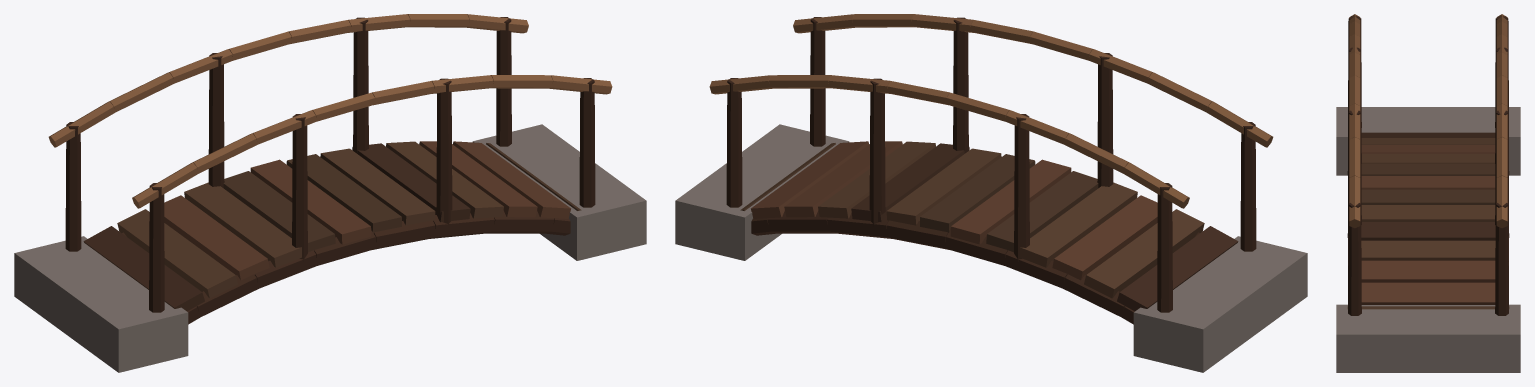
File: bridge-ETZK_L1i.glb
3 views of the same model, side by side, from view 1: azimuth 30°, elevation 25°; view 2: azimuth 150°, elevation 25°; view 3: azimuth 270°, elevation 25° (orthographic). The views are drawn at different scales.
Visible parts, largest first — view 1: bridge; view 2: bridge; view 3: bridge.
Boxes of the visible parts, x1=… form: bridge: x1=14, y1=14, x2=646, y2=372; bridge: x1=675, y1=14, x2=1307, y2=372; bridge: x1=1336, y1=14, x2=1520, y2=372.
Bounding box in the file's own units: 3.8 × 1.43 × 1.3.
